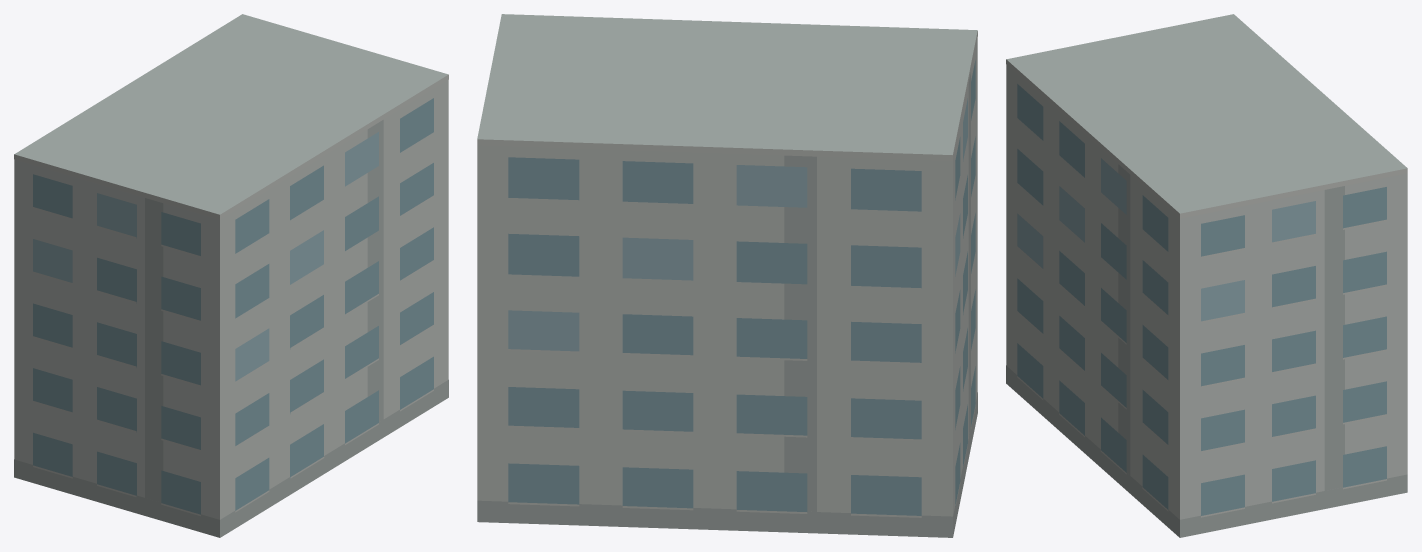
Rendered from survey-upis-32763956.glb.
3 views of the same model, side by side, from view 1: azimuth 30°, elevation 25°; view 2: azimuth 150°, elevation 25°; view 3: azimuth 270°, elevation 25° (orthographic). The views are drawn at different scales.
Parts seen in each view (by area): view 1: survey-upis-32763956.tmp; view 2: survey-upis-32763956.tmp; view 3: survey-upis-32763956.tmp.
Boxes of the visible parts, x1=… form: survey-upis-32763956.tmp: x1=14, y1=14, x2=448, y2=537; survey-upis-32763956.tmp: x1=477, y1=14, x2=977, y2=537; survey-upis-32763956.tmp: x1=1006, y1=14, x2=1407, y2=537.
Bounding box in the file's own units: 20.36 × 15.41 × 17.31.
